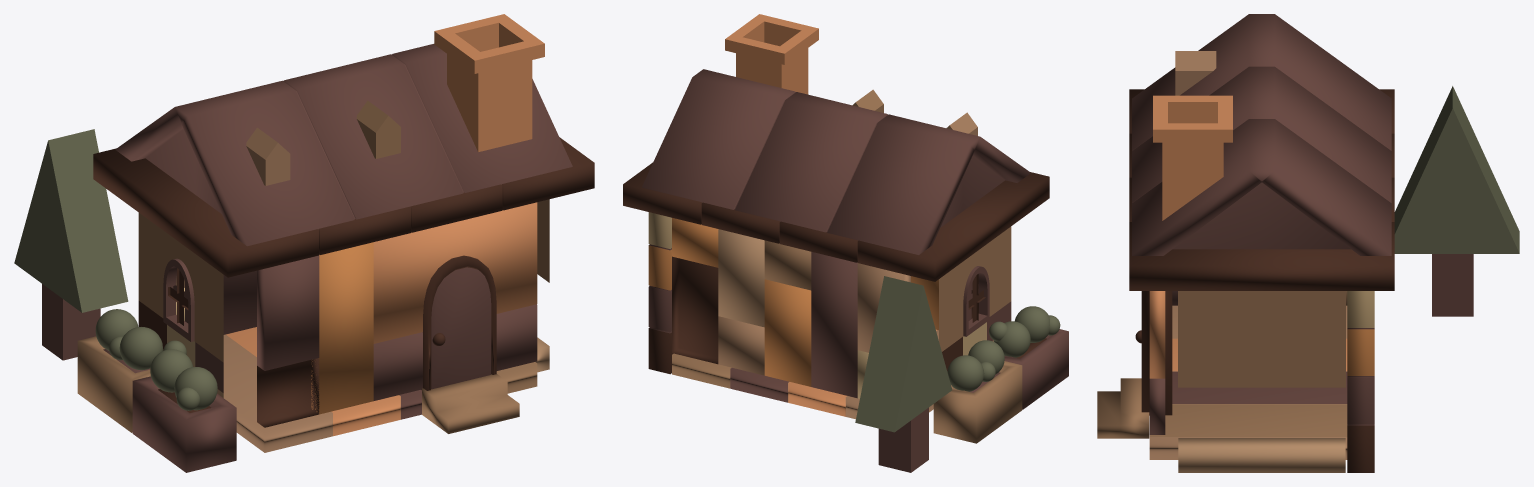
File: house.glb
3 views of the same model, side by side, from view 1: azimuth 30°, elevation 25°; view 2: azimuth 150°, elevation 25°; view 3: azimuth 270°, elevation 25° (orthographic). The views are drawn at different scales.
Parts seen in each view (by area): view 1: 平面.001, 平面, 平面.002, Cube.008, 立方体.004, Cube.007, 立方体, Cube.001, Cube.019, 立方体.001, Cube.005, Cube.009 (+13 smaller); view 2: 平面.001, 平面, 平面.002, Cube.012, 立方体.004, Cube.013, Cube.017, 立方体.009, Cube.001, Cube.019, Cube.015, Cube.004 (+11 smaller); view 3: 平面.001, Cube.019, 平面.002, 平面, Cube.001, 立方体.004, Cube.003, Cube.004, 立方体.003, 立方体, Cube.008, 立方体.005 (+1 smaller).
Part boxes in pixels (left/top/right/bottom): 平面.001: left=115, top=44, right=572, bottom=246; 平面: left=93, top=137, right=594, bottom=277; 平面.002: left=14, top=129, right=128, bottom=360; Cube.008: left=373, top=202, right=537, bottom=343; 立方体.004: left=434, top=14, right=544, bottom=152; Cube.007: left=311, top=242, right=373, bottom=414; 立方体: left=421, top=255, right=496, bottom=390; Cube.001: left=223, top=327, right=537, bottom=452; Cube.019: left=138, top=199, right=549, bottom=362; 立方体.001: left=132, top=376, right=236, bottom=472; Cube.005: left=257, top=255, right=319, bottom=370; Cube.009: left=373, top=304, right=537, bottom=400; 平面.001: left=642, top=69, right=1030, bottom=254; 平面: left=623, top=162, right=1049, bottom=281; 平面.002: left=855, top=276, right=952, bottom=472; Cube.012: left=811, top=252, right=857, bottom=398; 立方体.004: left=725, top=14, right=818, bottom=94; Cube.013: left=764, top=279, right=811, bottom=386; Cube.017: left=672, top=256, right=718, bottom=364; 立方体.009: left=933, top=361, right=1022, bottom=443; Cube.001: left=672, top=329, right=938, bottom=419; Cube.019: left=939, top=226, right=1011, bottom=351; Cube.015: left=718, top=229, right=764, bottom=327; Cube.004: left=648, top=212, right=673, bottom=374; 平面.001: left=1132, top=14, right=1391, bottom=255; Cube.019: left=1178, top=291, right=1345, bottom=387; 平面.002: left=1394, top=86, right=1519, bottom=316; 平面: left=1129, top=89, right=1394, bottom=290; Cube.001: left=1149, top=305, right=1347, bottom=459; 立方体.004: left=1153, top=95, right=1232, bottom=220; Cube.003: left=1178, top=438, right=1345, bottom=472; Cube.004: left=1347, top=291, right=1374, bottom=472; 立方体.003: left=1097, top=378, right=1149, bottom=438; 立方体: left=1135, top=291, right=1172, bottom=415; Cube.008: left=1149, top=291, right=1165, bottom=378; 立方体.005: left=1175, top=51, right=1216, bottom=95.
Size of the model in its own units: 5.42 by 4.4 by 5.04.
